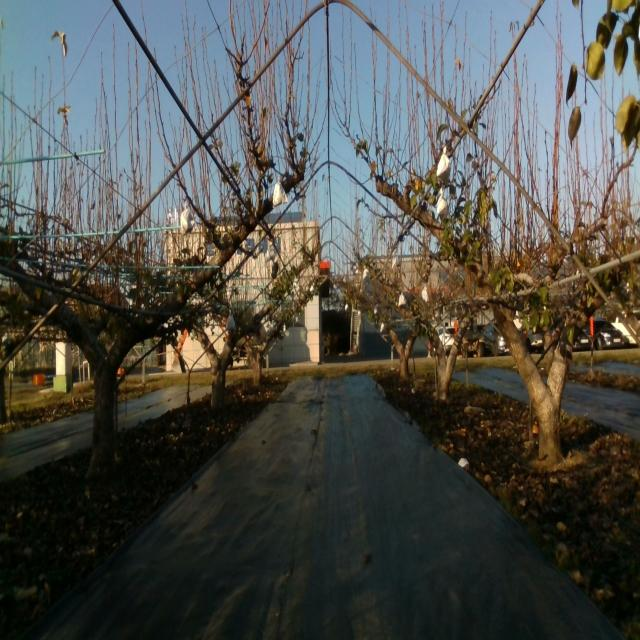pearbags: (435, 146, 451, 187), (179, 206, 196, 237), (272, 182, 288, 209), (436, 188, 448, 216)
